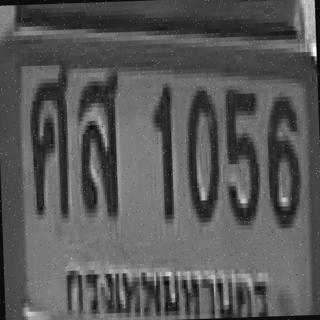A38: (26, 64, 72, 215)
A40: (74, 67, 120, 213)
N00: (184, 81, 218, 218)
N01: (150, 78, 174, 220)
N05: (223, 84, 259, 221)
N06: (264, 92, 300, 224)
P04: (56, 245, 272, 320)
